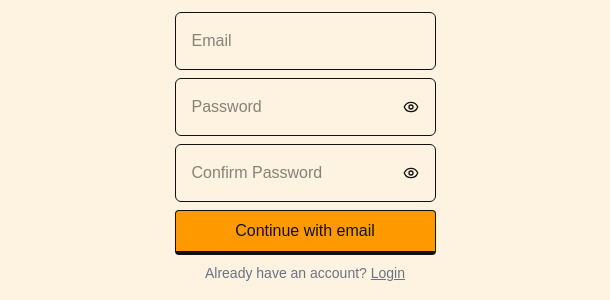
Scenario: LoginForm › register mode › posts to /auth/email?register=true and shows verification message
Step 1. Type "user@example.com" into the field with placeholder "Email" → coordinates (305, 41), box [174, 12, 436, 70]
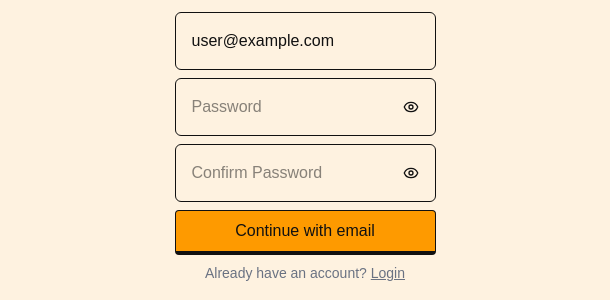
Step 2. Type "secret123" into the password field with placeholder "Password" → coordinates (295, 107), box [192, 95, 398, 119]
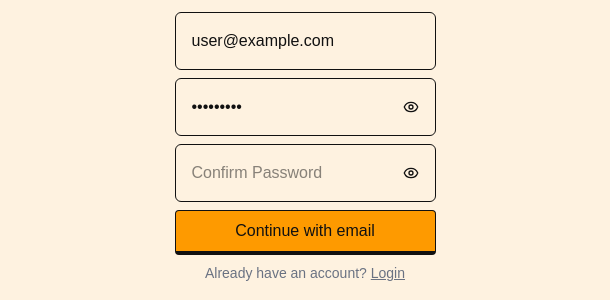
Step 3. Type "secret123" into the password field with placeholder "Confirm Password" → coordinates (295, 173), box [192, 161, 398, 185]
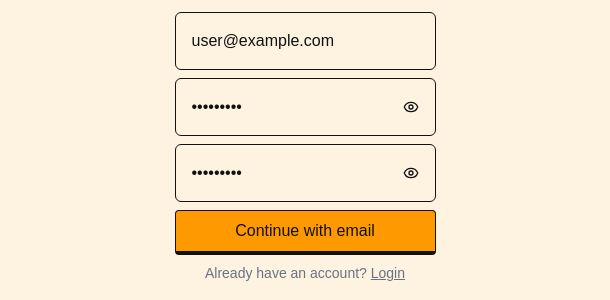
Step 4. Submit the form, box [174, 12, 436, 283]
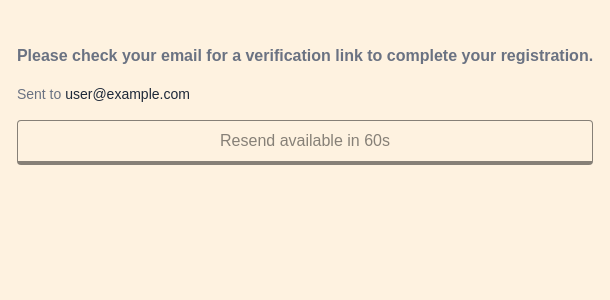
Expected: the text "Please check your email for a verification link" is shown, [17, 47, 593, 64]
Expected: the text "user@example.com" is shown, [65, 86, 190, 102]
Expected: the button "Resend available in 60s" is disabled, [17, 120, 593, 165]
